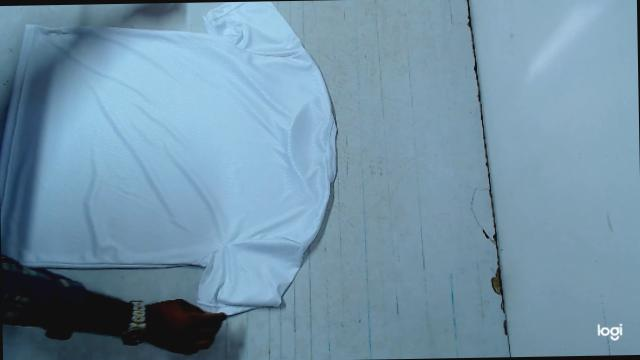new-garment: (0, 1, 336, 314)
